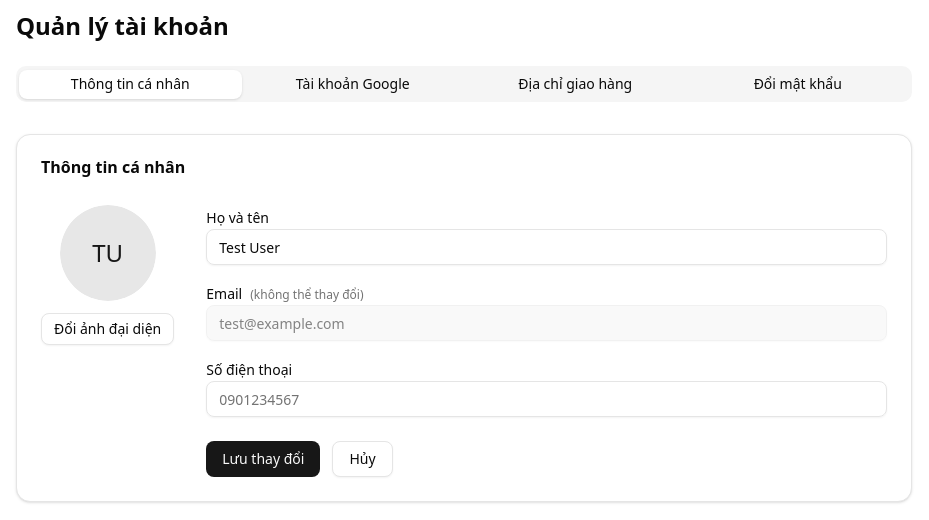
Test case: D1-1: no nested interactive controls in rendered feature pages › ProfilePage addresses tab: manage-addresses CTA is a single link
Click the tab "Địa chỉ giao hàng" at (575, 84), box [464, 70, 686, 98]
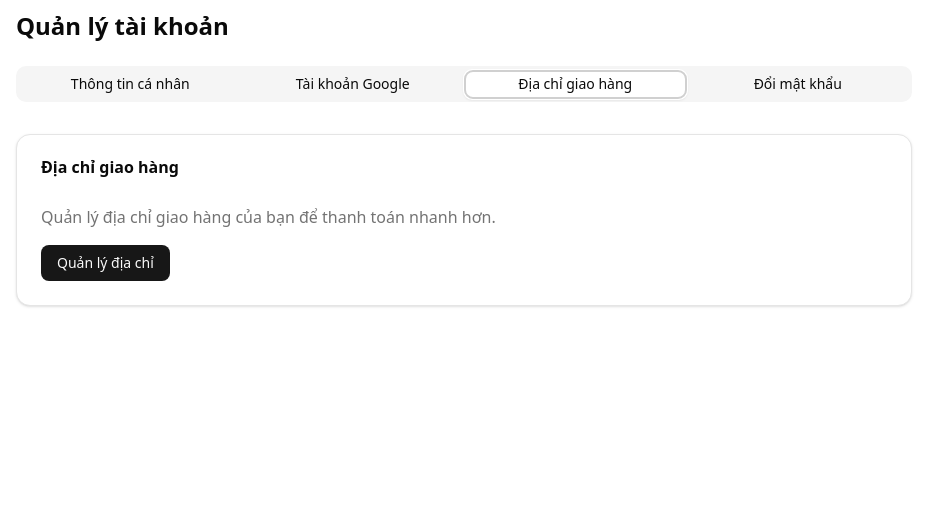
Expected: the button "Đổi ảnh đại diện" is gone
